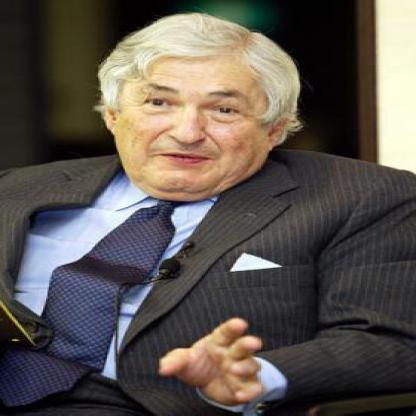face: (116, 23, 280, 200)
